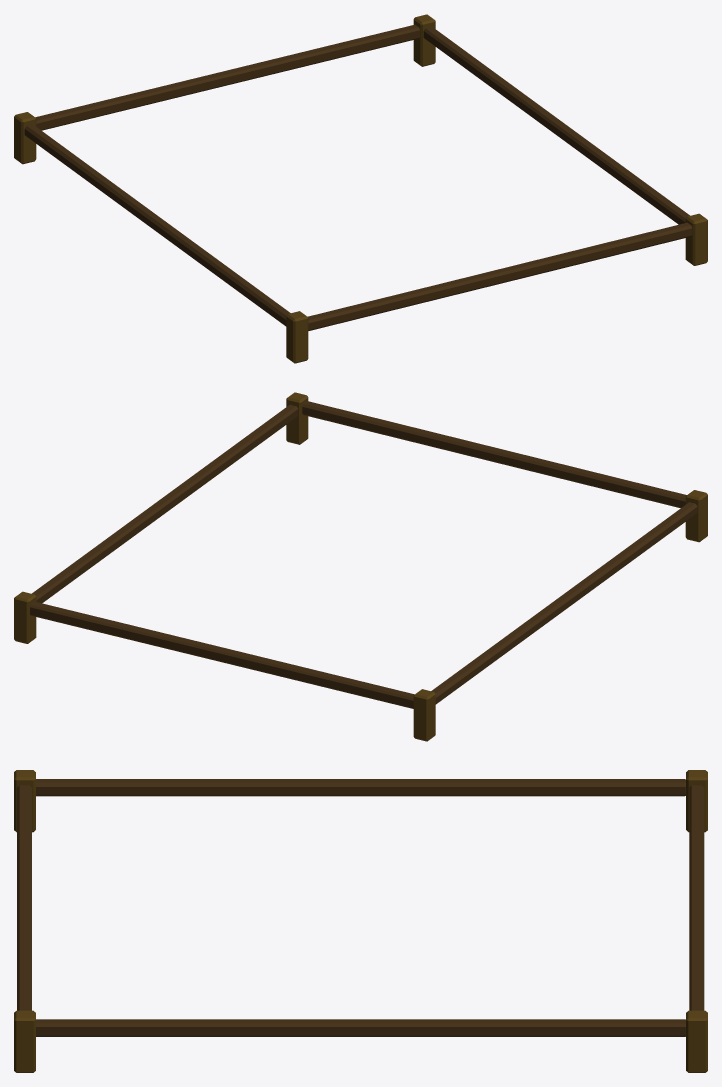
File: warehouse_v3_BuildingFrame.fbx
The picture shows the model from 3 angles, top to bottom: view 1: azimuth 30°, elevation 25°; view 2: azimuth 150°, elevation 25°; view 3: azimuth 270°, elevation 25°; orthographic projection. The views are drawn at different scales.
Visible parts, largest first — view 1: Cube.001; view 2: Cube.001; view 3: Cube.001.
Part boxes in pixels (x1,y1,x2,y2): Cube.001: [14, 14, 707, 363]; Cube.001: [14, 392, 707, 741]; Cube.001: [14, 770, 707, 1072].
Bounding box in the file's own units: 2699 × 277 × 3168.
